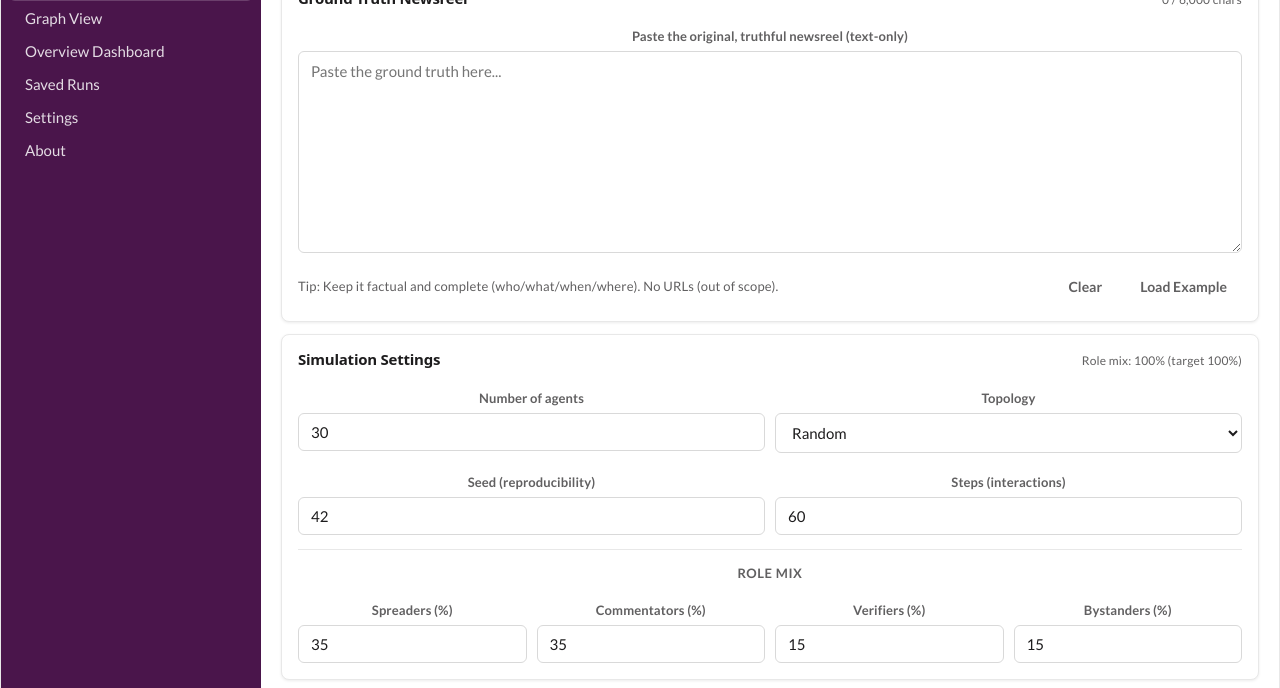
Test: SoFake Frontend Unit Tests › should show warning when role mix does not sum to 100%
expect the text "Role mix should sum to 100%" is not shown: met
Step 1. Replace the text in the number field below "Spreaders (%)" with "50" → (412, 644), box [298,625,526,663]
(page scrolled)
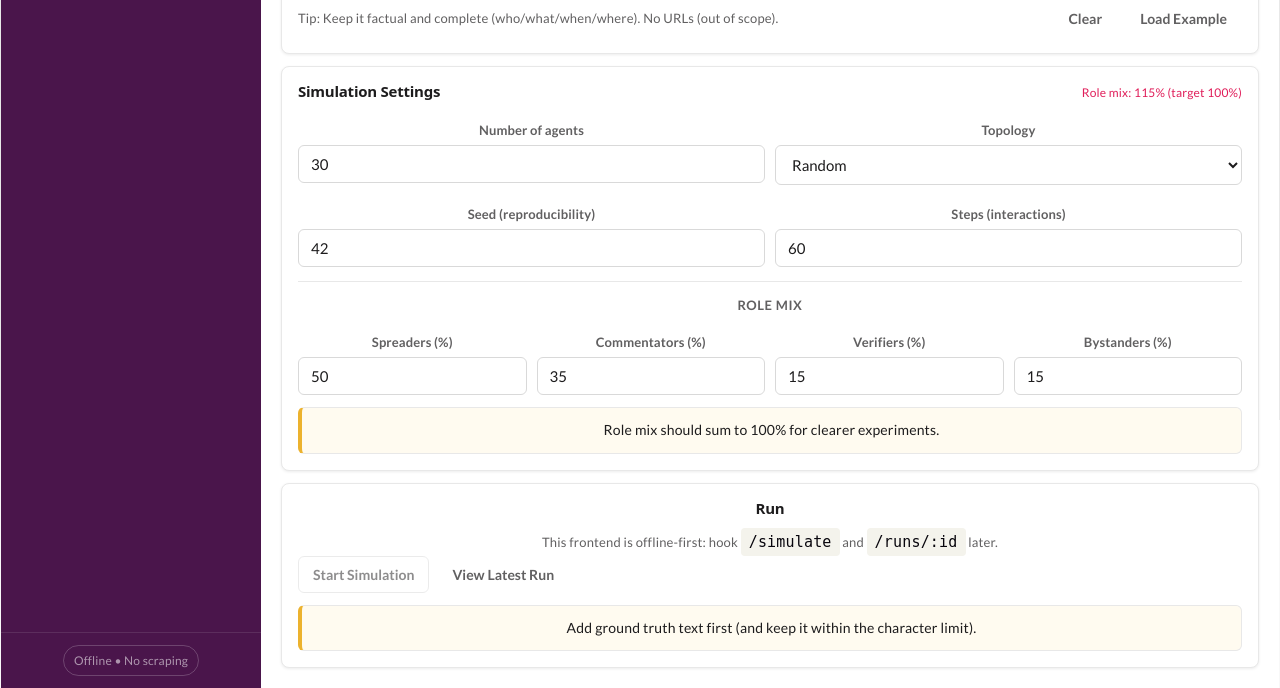
expect the text "Role mix should sum to 100% for clearer experiments." is shown: met, box [298,407,1242,454]
